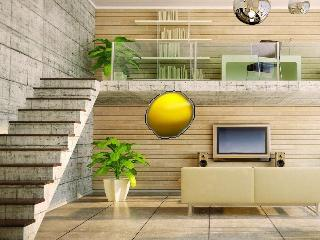lemon: (147, 94, 193, 138)
